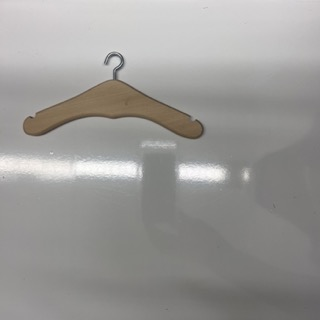rack: (23, 52, 204, 140)
